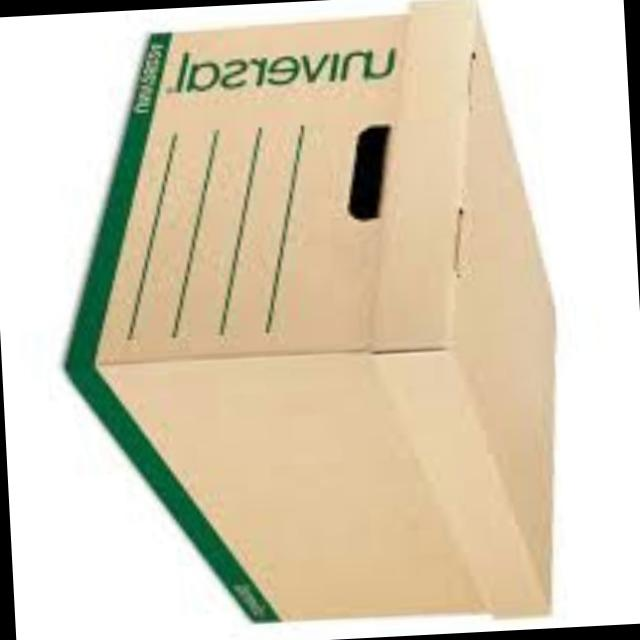cardboard paper: (75, 4, 558, 625)
